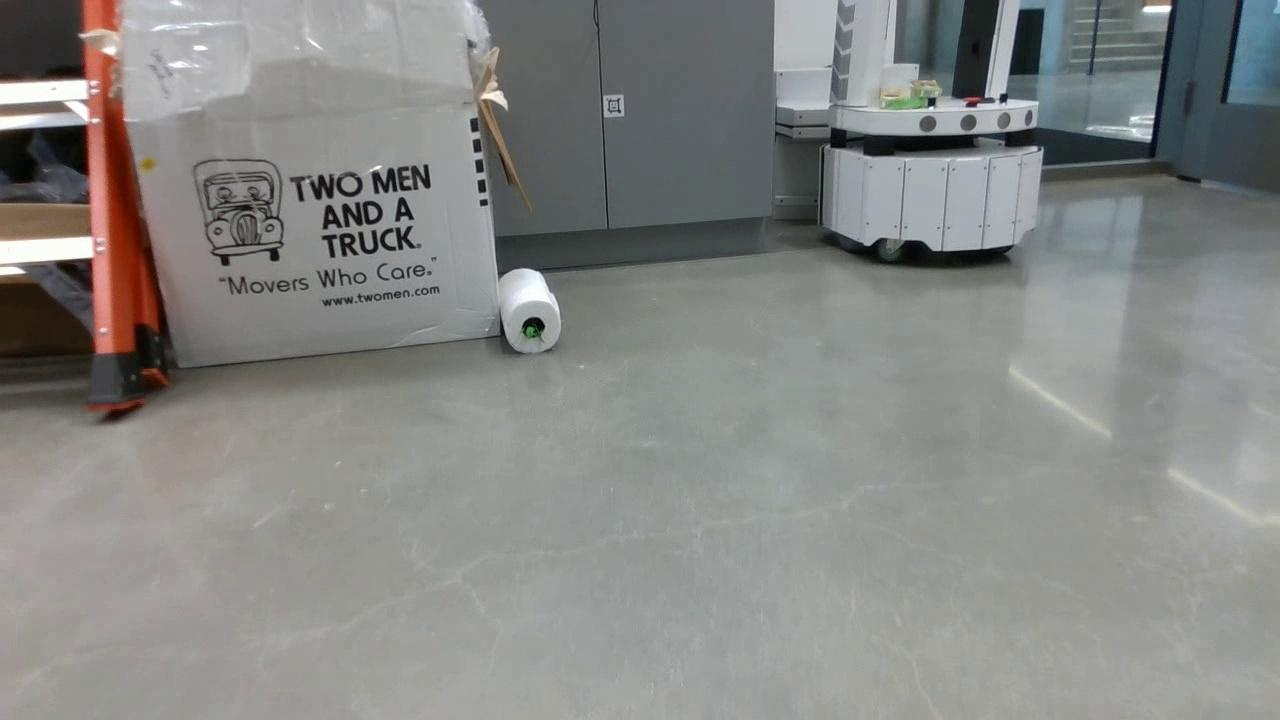grasshopper: (520, 320, 548, 341), (883, 99, 922, 110)
